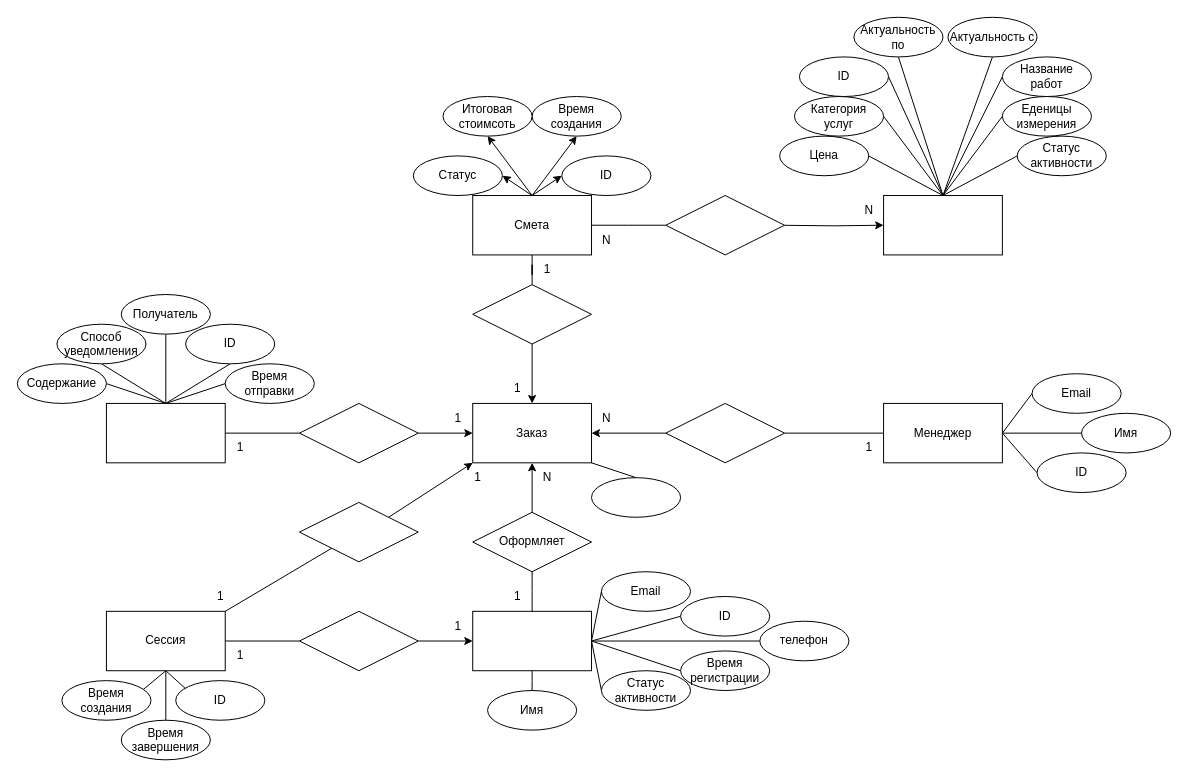
This 1188x778 diagram has some shape labels left out. The centre of each missing label's shape, as x and y in pixels:
"Данные о заказе" goes at point 636,497.
"дополняет" goes at point 532,314.
"Пользователь" goes at point 532,640.
"Прайс лист" goes at point 942,225.
"Привязывается" goes at point 358,531.
"Принадлежит" goes at point 358,640.
"Просматривает" goes at point 725,432.
"Создается" goes at point 358,432.
"Ссылается" goes at point 725,225.
"Уведомление" goes at point 165,432.
